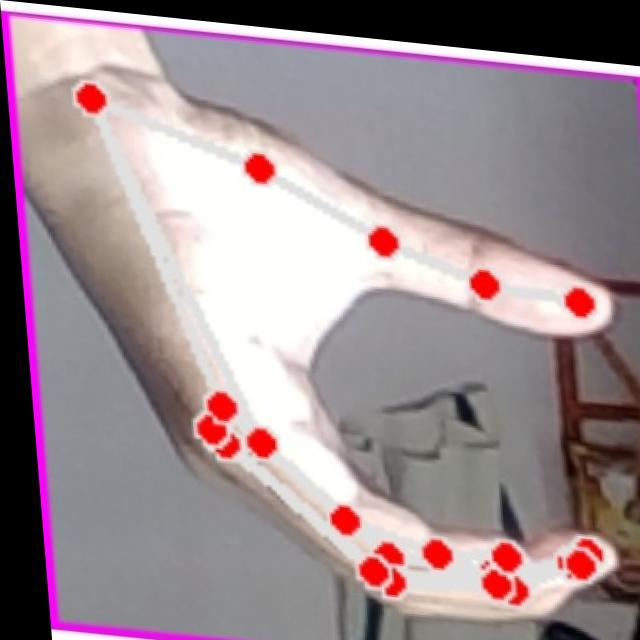C: (21, 40, 640, 640)
